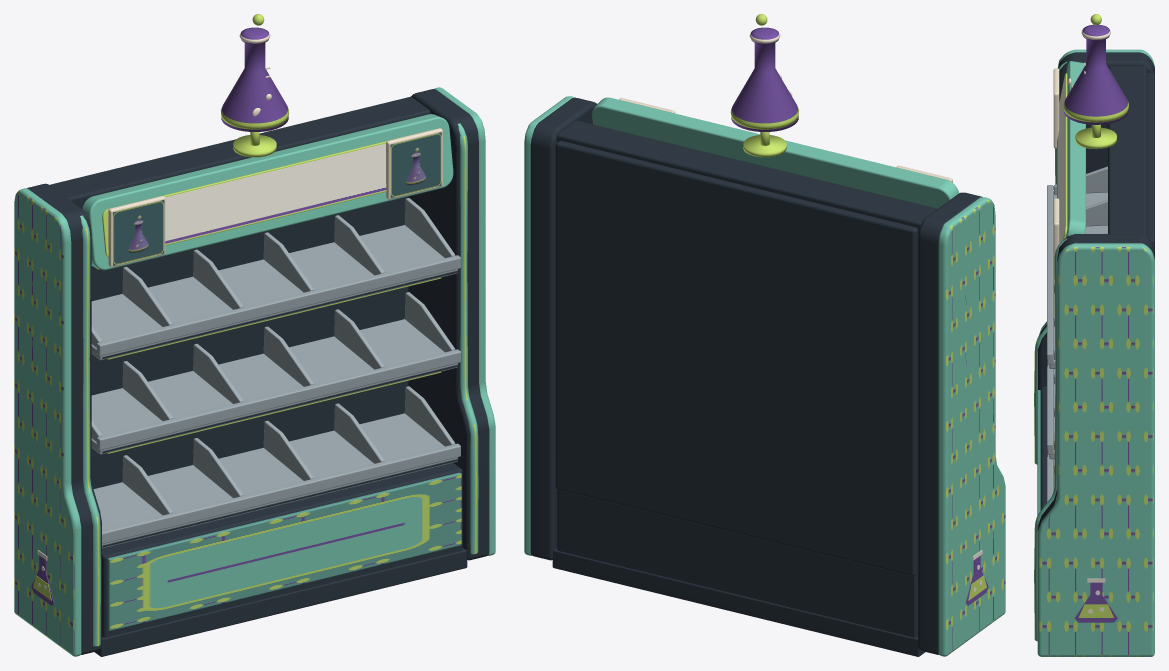
Rendered from TH_SCIENCE_LAB.fbx.
3 renders of one model, left to right at view 1: azimuth 30°, elevation 25°; view 2: azimuth 150°, elevation 25°; view 3: azimuth 270°, elevation 25°, orthographic. The views are drawn at different scales.
Parts seen in each view (by area): view 1: BaseFrontInset, Left_PaintedPanel, BackPanel.001, Right_StructuralWall, Tray_02, Tray_01, Tray_03, HeaderFace, HeaderBorder, TopCrossRail, Left_StructuralWall, ClosedSolidBase (+33 smaller); view 2: BackPanel.001, Left_PaintedPanel, ClosedSolidBase, Right_StructuralWall, HeaderBorder, Left_StructuralWall, TopCrossRail, LowerPlinth, Ceramic flask, Right_PaintedPanel, TopperMount; view 3: Right_PaintedPanel, TopCrossRail, Ceramic flask, HeaderBorder, Left_StructuralWall, HeaderFace, RightHousing, BackPanel.001, FrontLip_01, Right_StructuralWall, ClosedSolidBase, TopperMount (+14 smaller).
Boxes of the visible parts, x1,y1,x2,y2 form: BaseFrontInset: [107, 472, 461, 630]; Left_PaintedPanel: [14, 188, 81, 656]; BackPanel.001: [91, 196, 408, 489]; Right_StructuralWall: [408, 89, 489, 560]; Tray_02: [91, 319, 457, 454]; Tray_01: [91, 225, 457, 360]; Tray_03: [93, 413, 457, 548]; HeaderFace: [102, 130, 431, 257]; HeaderBorder: [82, 114, 453, 270]; TopCrossRail: [50, 96, 430, 208]; Left_StructuralWall: [27, 183, 101, 654]; ClosedSolidBase: [102, 463, 462, 637]; BackPanel.001: [555, 140, 918, 576]; Left_PaintedPanel: [938, 197, 1005, 656]; ClosedSolidBase: [557, 489, 917, 637]; Right_StructuralWall: [530, 97, 597, 560]; HeaderBorder: [592, 97, 958, 208]; Left_StructuralWall: [918, 192, 982, 654]; TopCrossRail: [556, 120, 937, 234]; LowerPlinth: [552, 548, 925, 656]; Ceramic flask: [731, 27, 798, 131]; Right_PaintedPanel: [524, 96, 574, 555]; TopperMount: [743, 135, 786, 157]; Right_PaintedPanel: [1037, 243, 1154, 656]; TopCrossRail: [1108, 66, 1146, 236]; Ceramic flask: [1064, 24, 1128, 124]; HeaderBorder: [1065, 61, 1085, 237]; Left_StructuralWall: [1037, 52, 1154, 389]; HeaderFace: [1057, 73, 1067, 243]; RightHousing: [1034, 238, 1067, 641]; BackPanel.001: [1147, 72, 1154, 249]; FrontLip_01: [1047, 185, 1053, 364]; Right_StructuralWall: [1037, 234, 1154, 531]; ClosedSolidBase: [1040, 386, 1046, 510]; TopperMount: [1075, 127, 1116, 149].
Size of the model in its own units: 3.62 by 4.68 by 0.9273.
